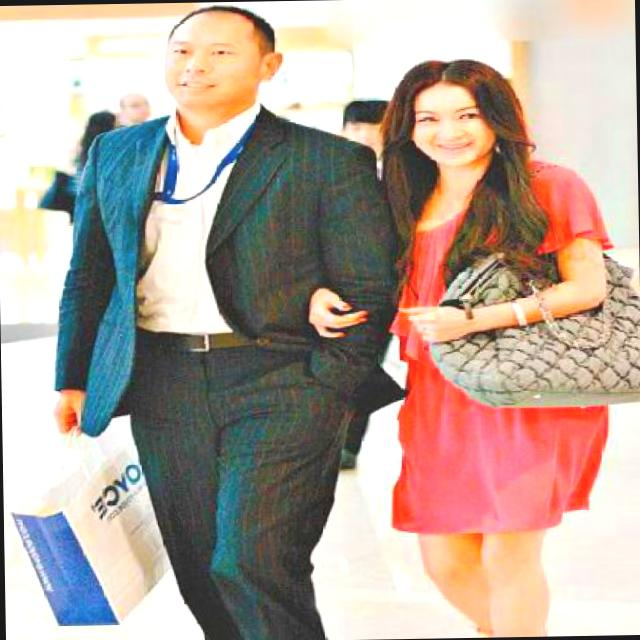Person: (42, 1, 336, 640), (340, 47, 630, 638)
